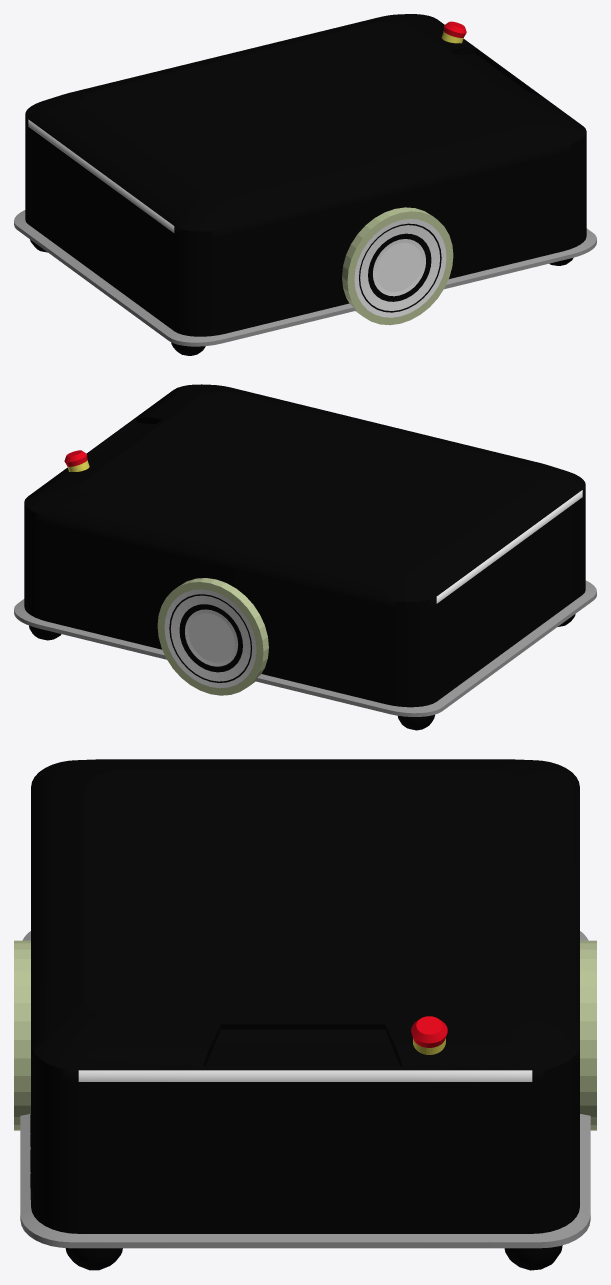
File: tars_bot_mesh.dae
3 renders of one model, top to bottom at view 1: azimuth 30°, elevation 25°; view 2: azimuth 150°, elevation 25°; view 3: azimuth 270°, elevation 25°, orthographic. The views are drawn at different scales.
Visible parts, largest first — view 1: Tars_bot; view 2: Tars_bot; view 3: Tars_bot.
Boxes of the visible parts, x1,y1,x2,y2 form: Tars_bot: (14,14,596,355); Tars_bot: (14,384,596,730); Tars_bot: (14,759,596,1270).
Bounding box in the file's own units: 0.8648 × 0.661 × 0.3141.
